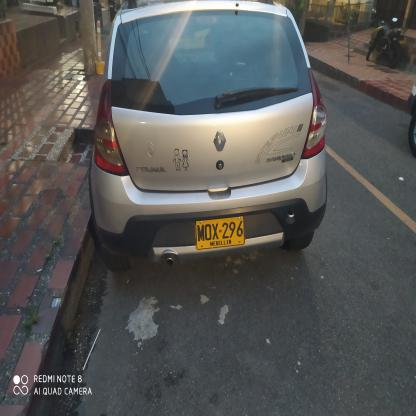placa: (189, 210, 249, 254)
